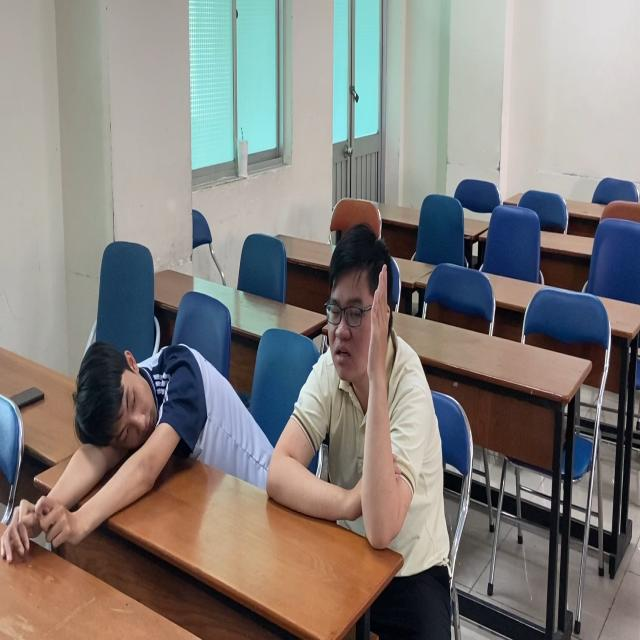raise_hand: (265, 225, 434, 546)
sleep: (1, 333, 264, 557)
